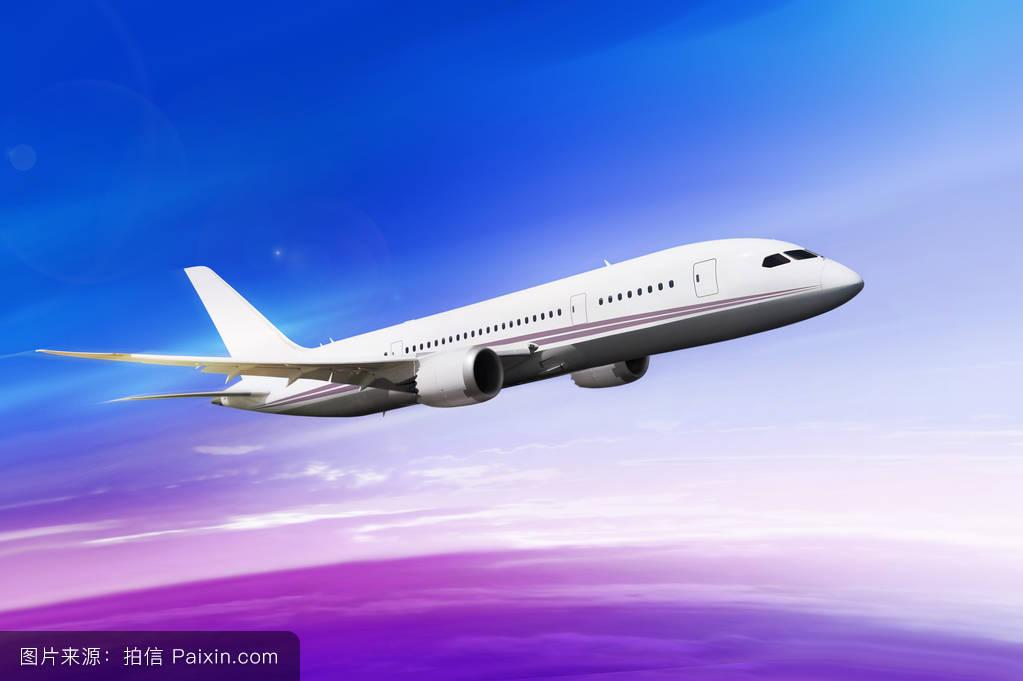airplane: (34, 228, 872, 429)
